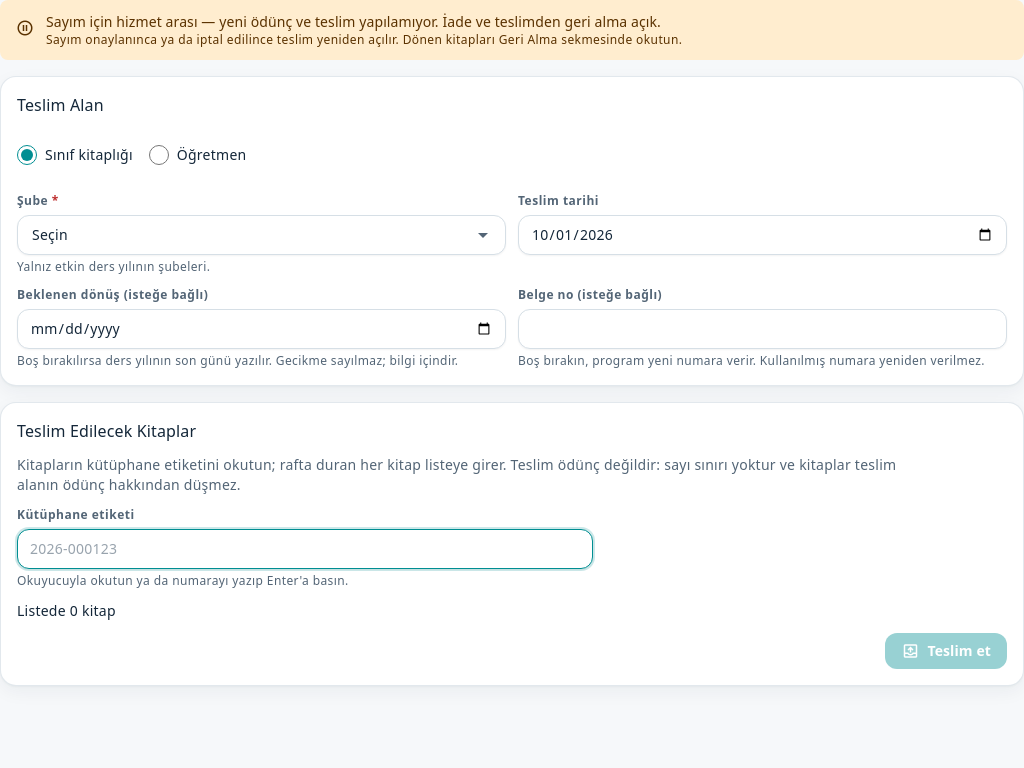
Test: YeniTeslim — sayım için hizmet arası (F9, madde 27) › hizmet arası sürerken şerit durur ve “Teslim et” kapalıdır
Expected: the message "Sayım için hizmet arası" shows "Sayım için hizmet arası — yeni ödünç ve teslim yapılamıyor. İade ve teslimden geri alma açık.", [46,12,661,31]
Expected: the message "Sayım için hizmet arası" shows "Sayım onaylanınca ya da iptal edilince teslim yeniden açılır. Dönen kitapları Geri Alma sekmesinde okutun.", [46,31,682,48]
Type "2026000101" into the field labelled "Kütüphane etiketi".
click(305, 549); type("2026000101")  # box [30,539,580,559]
Then press Enter
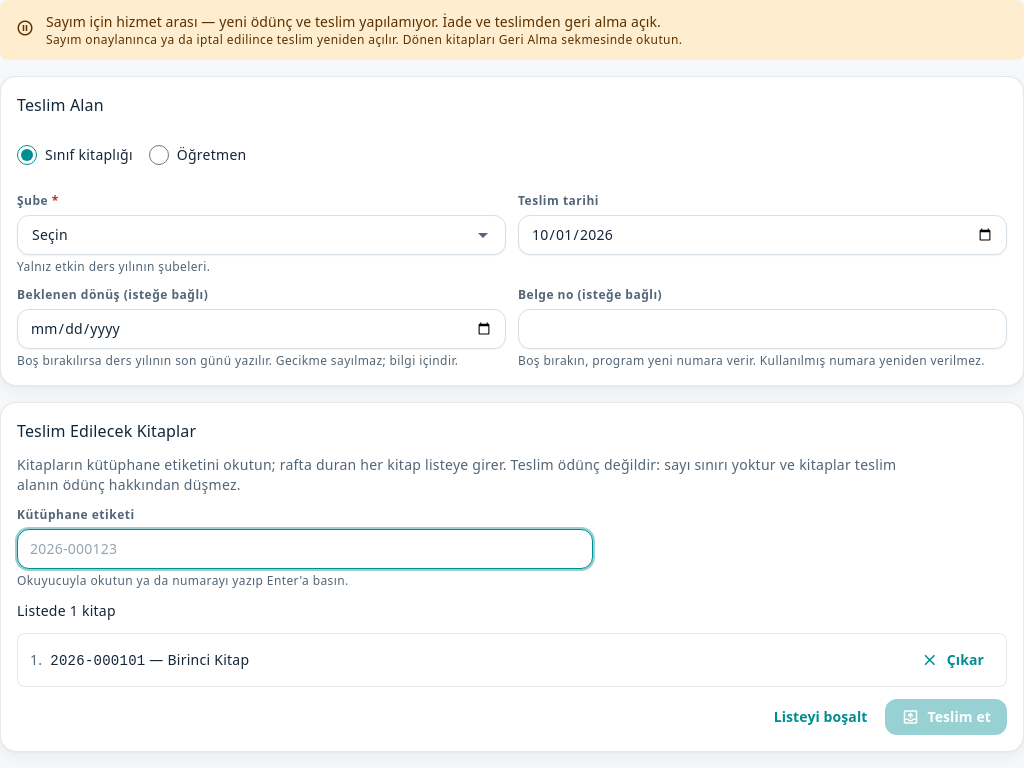
Expected: the button "Teslim et" is disabled, [886,699,1007,735]
Expected: the text "Listede 1 kitap" is shown, [17,601,116,620]
